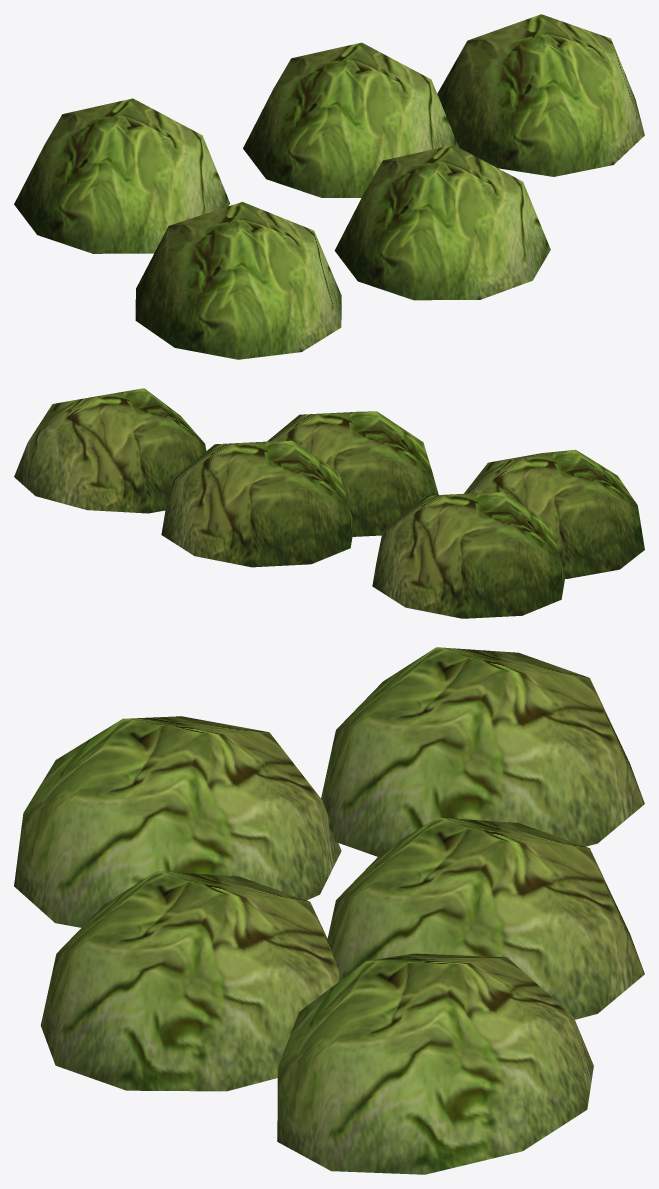
Rendered from fanasty_mod_cabbage_heads.fbx.
3 views of the same model, one above another, from view 1: azimuth 30°, elevation 25°; view 2: azimuth 150°, elevation 25°; view 3: azimuth 270°, elevation 25° (orthographic). The views are drawn at different scales.
Parts seen in each view (by area): view 1: cabbage_heads; view 2: cabbage_heads; view 3: cabbage_heads.
Part boxes in pixels (x1,y1,x2,y2): cabbage_heads: (14,14,644,359); cabbage_heads: (14,388,644,618); cabbage_heads: (14,647,644,1174).
Size of the model in its own units: 2.09 by 0.4658 by 1.28.
